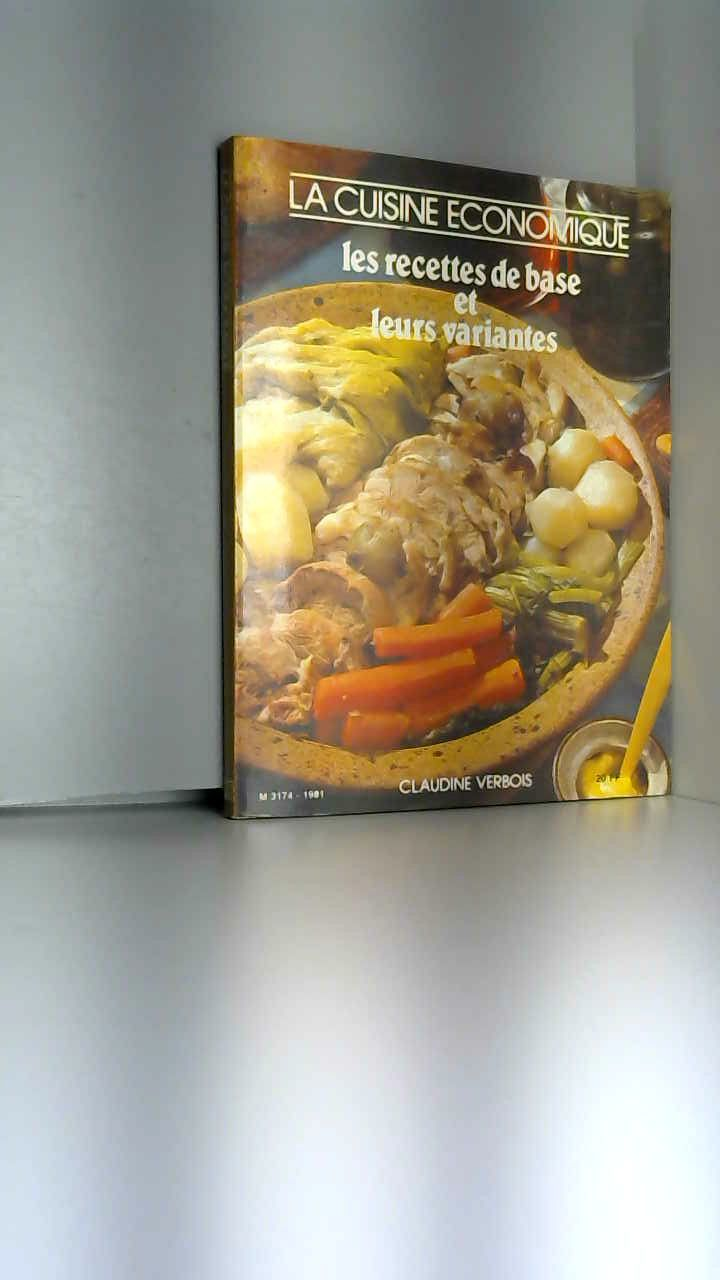book: (190, 110, 720, 846)
